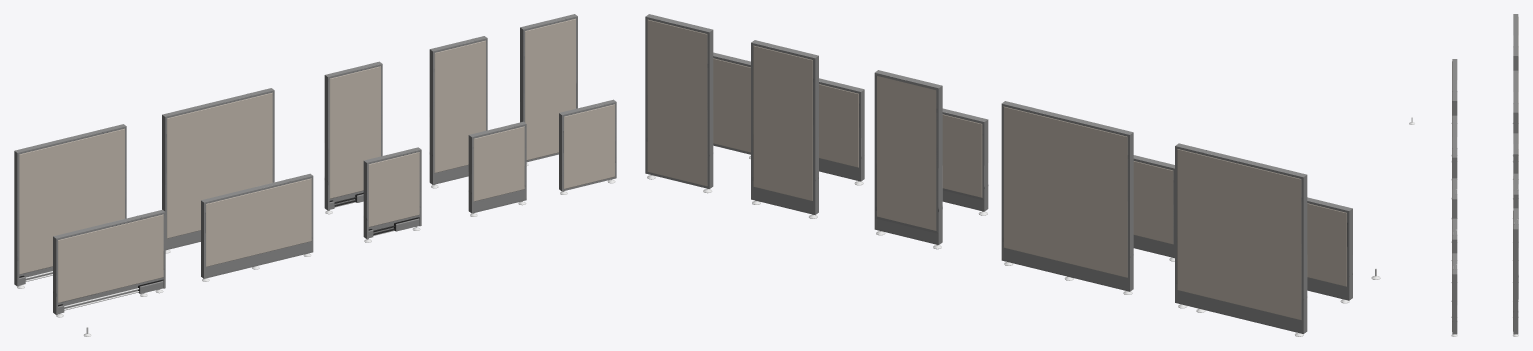
Rendered from cubicals_partitions_master.FBX.
3 views of the same model, side by side, from view 1: azimuth 30°, elevation 25°; view 2: azimuth 150°, elevation 25°; view 3: azimuth 270°, elevation 25° (orthographic). The views are drawn at different scales.
Parts seen in each view (by area): view 1: cubical_wall_1.5m_b_01, cubical_wall_1.5m_a_01, cubical_partition_1.5m_a_01, cubical_partition_1.5m_b_01, cubical_wall_1m_a_01, cubical_wall_1m_b_01, cubical_wall_1m_c_01, cubical_partition_1m_a_01, cubical_partition_1m_b_01, cubical_partition_1m_c_01; view 2: cubical_wall_1.5m_a_01, cubical_wall_1.5m_b_01, cubical_wall_1m_b_01, cubical_wall_1m_c_01, cubical_wall_1m_a_01, cubical_partition_1m_b_01, cubical_partition_1m_a_01, cubical_partition_1.5m_b_01, cubical_partition_1.5m_a_01, cubical_partition_1m_c_01; view 3: cubical_wall_1m_c_01, cubical_partition_1m_c_01, cubical_wall_1.5m_a_01, cubical_partition_1.5m_a_01, cubical_partition_1.5m_b_01, cubical_wall_1.5m_b_01, cubical_wall_1m_a_01, cubical_partition_1m_b_01, cubical_wall_1m_b_01, cubical_partition_1m_a_01.
Part boxes in pixels (x1,y1,x2,y2): cubical_wall_1.5m_b_01: (14, 124, 126, 286); cubical_wall_1.5m_a_01: (162, 88, 274, 250); cubical_partition_1.5m_a_01: (201, 173, 313, 278); cubical_partition_1.5m_b_01: (53, 209, 165, 314); cubical_wall_1m_a_01: (429, 36, 487, 184); cubical_wall_1m_b_01: (324, 61, 382, 210); cubical_wall_1m_c_01: (520, 14, 577, 162); cubical_partition_1m_a_01: (468, 121, 526, 213); cubical_partition_1m_b_01: (363, 147, 421, 238); cubical_partition_1m_c_01: (559, 99, 616, 191); cubical_wall_1.5m_a_01: (1001, 101, 1133, 291); cubical_wall_1.5m_b_01: (1175, 143, 1307, 333); cubical_wall_1m_b_01: (874, 70, 942, 244); cubical_wall_1m_c_01: (645, 14, 713, 188); cubical_wall_1m_a_01: (751, 40, 818, 214); cubical_partition_1m_b_01: (942, 108, 988, 211); cubical_partition_1m_a_01: (819, 78, 864, 181); cubical_partition_1.5m_b_01: (1307, 197, 1352, 300); cubical_partition_1.5m_a_01: (1133, 155, 1174, 258); cubical_partition_1m_c_01: (713, 52, 750, 154); cubical_wall_1m_c_01: (1513, 208, 1518, 334); cubical_partition_1m_c_01: (1452, 253, 1457, 334); cubical_wall_1.5m_a_01: (1513, 70, 1518, 173); cubical_partition_1.5m_a_01: (1452, 115, 1457, 180); cubical_partition_1.5m_b_01: (1452, 59, 1457, 117); cubical_wall_1.5m_b_01: (1513, 14, 1518, 72); cubical_wall_1m_a_01: (1513, 173, 1518, 299); cubical_partition_1m_b_01: (1452, 178, 1457, 220); cubical_wall_1m_b_01: (1513, 133, 1518, 175); cubical_partition_1m_a_01: (1452, 218, 1457, 255).
Bounding box in the file's own units: 7.69 × 1.8 × 1.66.
